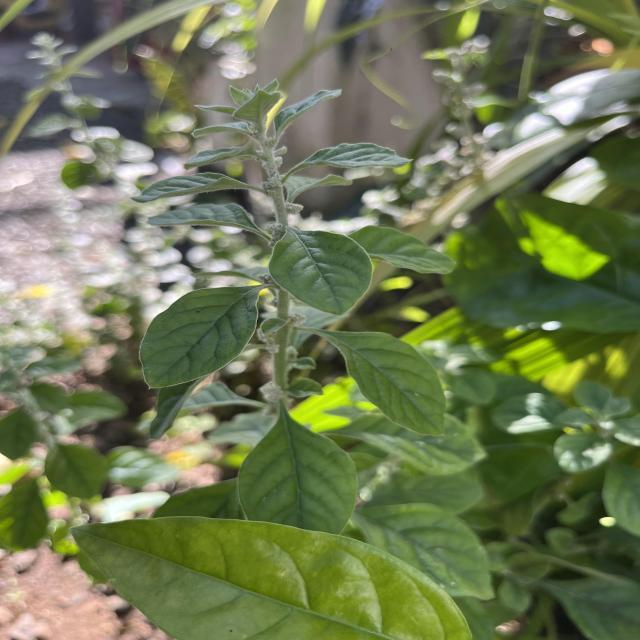Aerva lanata: (136, 282, 260, 392), (266, 226, 376, 320)
